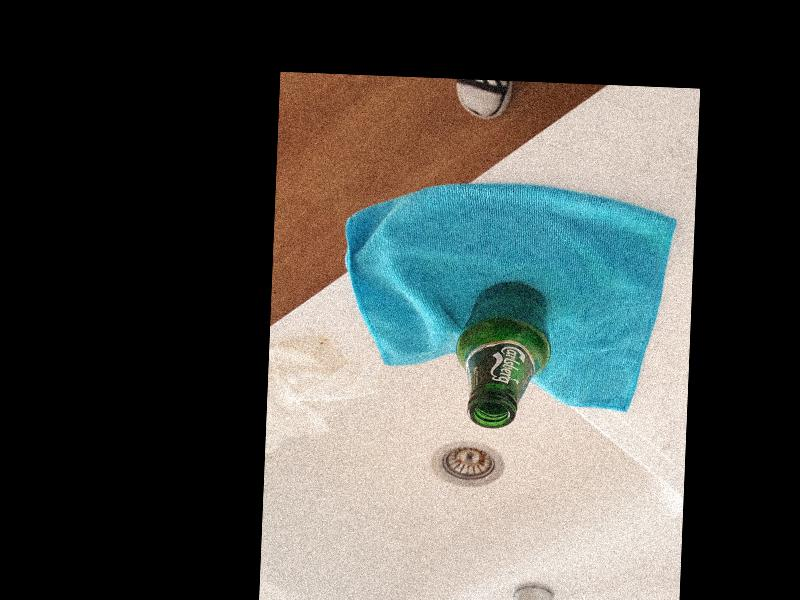Beer: (452, 278, 549, 428)
